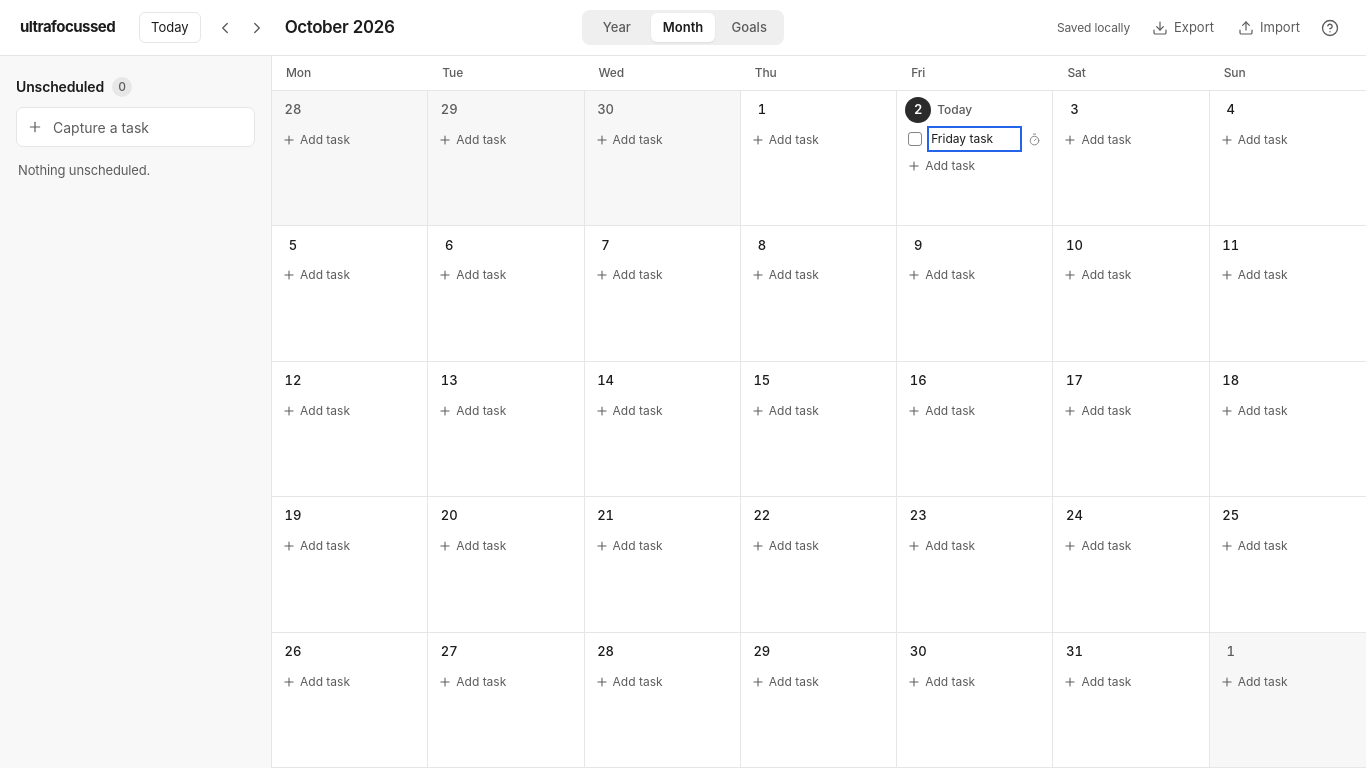
Test: closing task details after a date change › follows a task saved into another month and focuses it there
Click the button "Friday task": (975, 139) left=931, top=130, right=1018, bottom=148
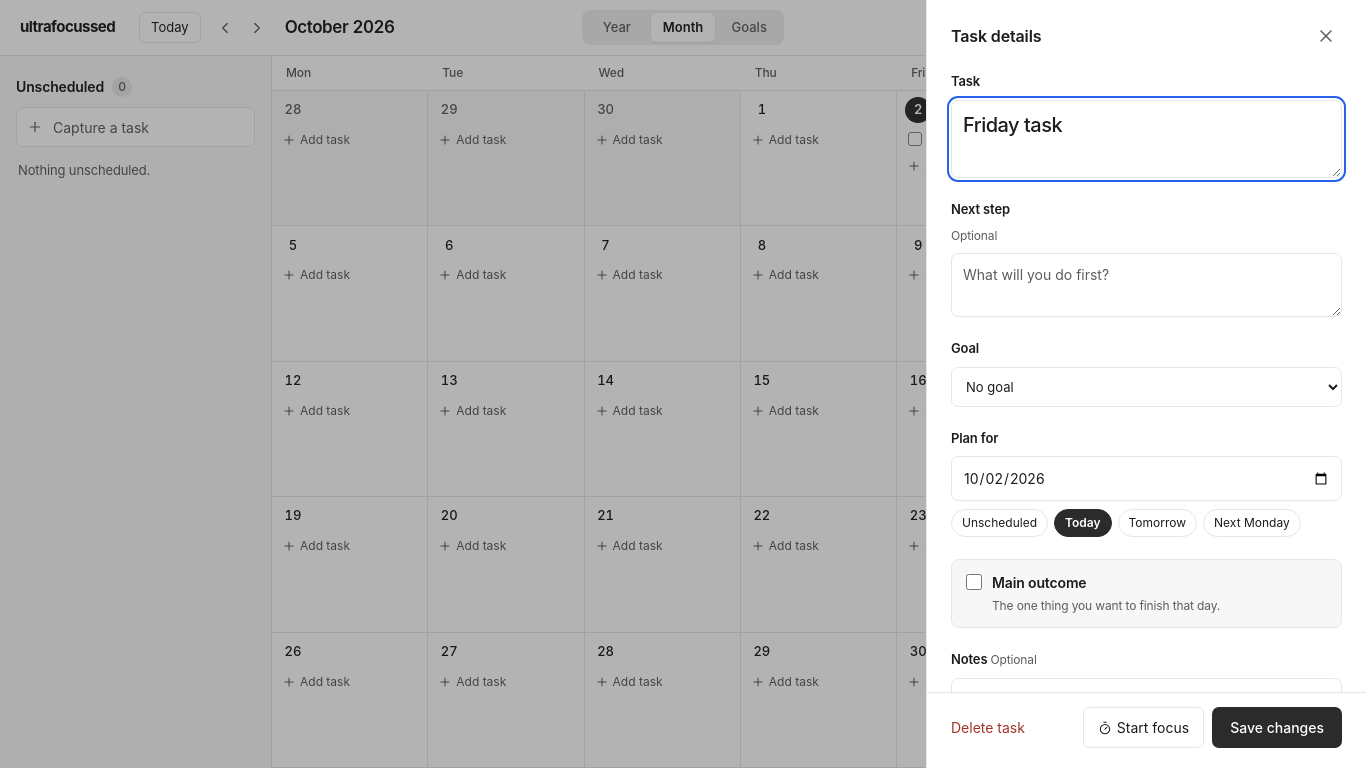
In the date field labelled "Plan for": (1146, 478) left=951, top=456, right=1342, bottom=501, type "2026-11-02"
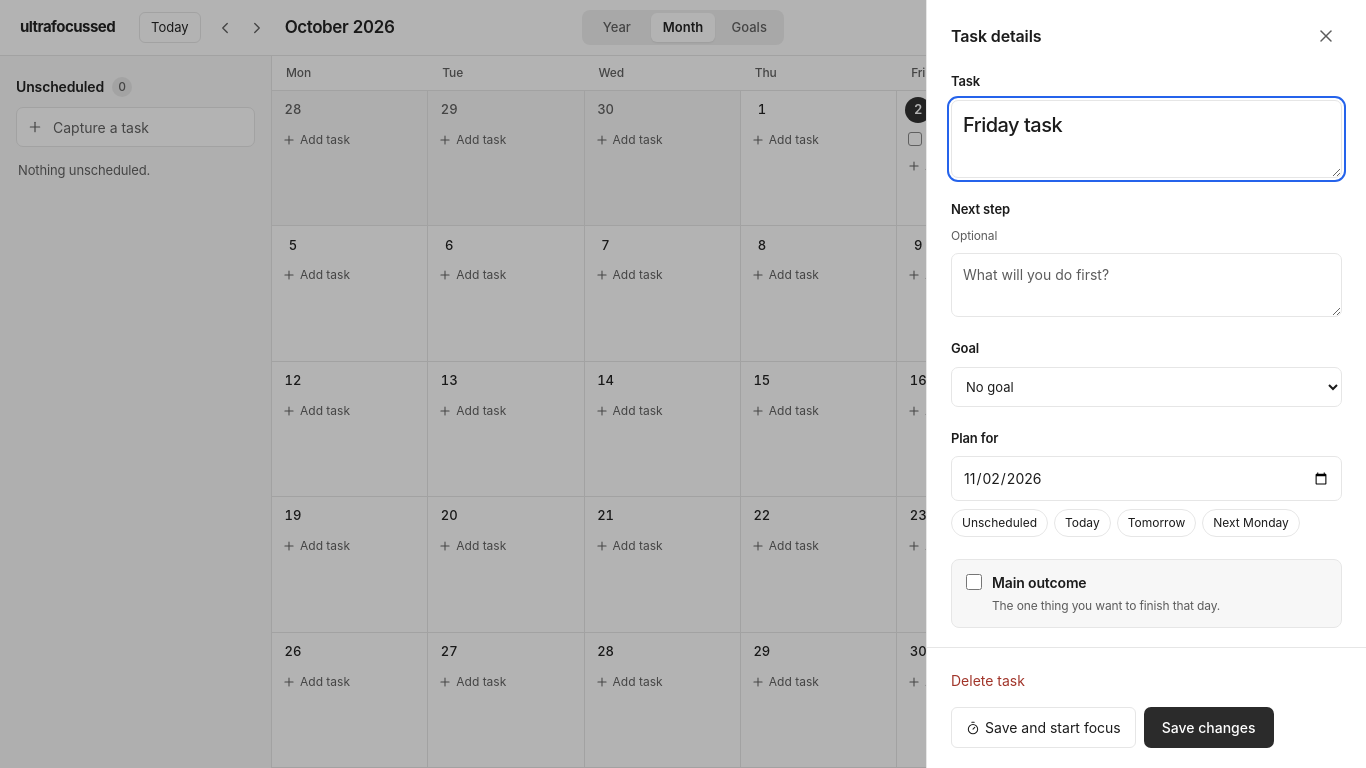
Click the button "Save changes": (1209, 728) left=1144, top=707, right=1274, bottom=748
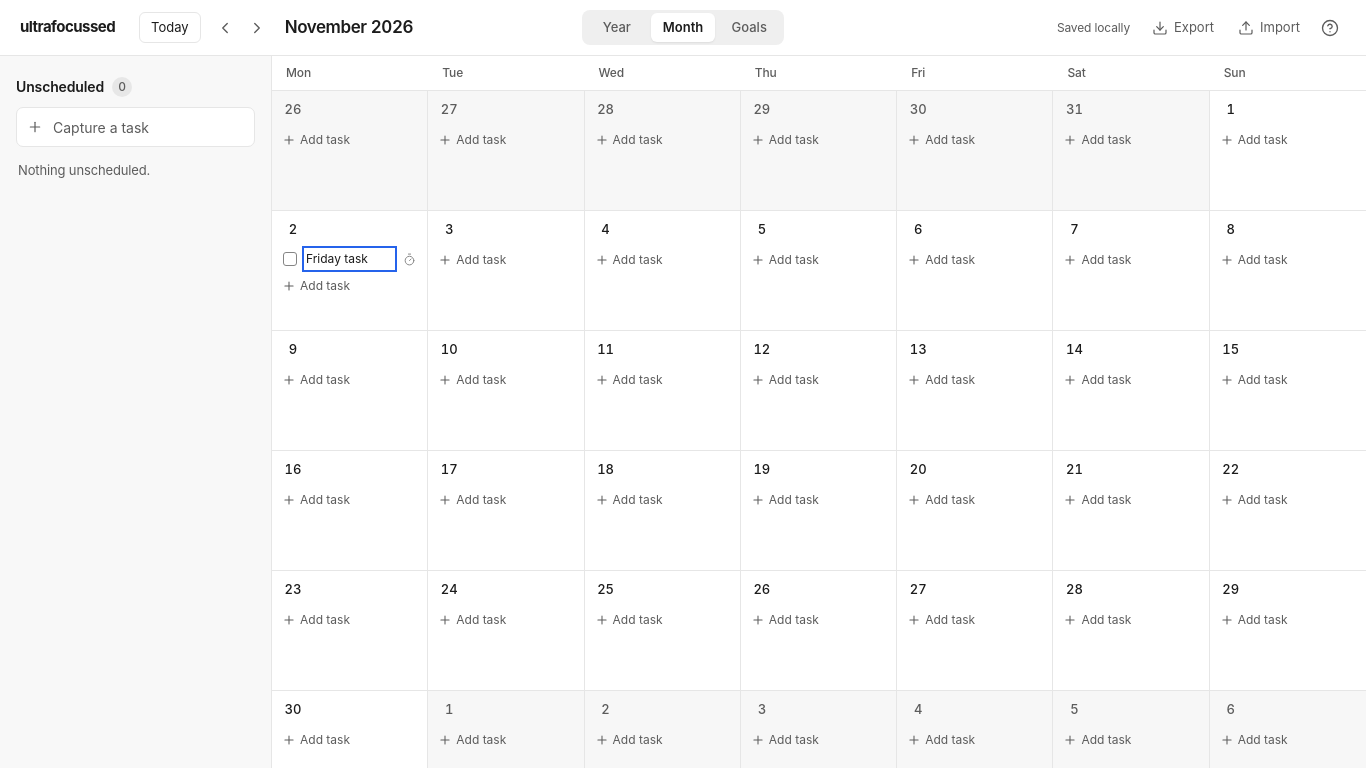
expect the button "Friday task" is shown: met, box left=306, top=250, right=393, bottom=268
expect the heading "November 2026" is shown: met, box left=285, top=15, right=413, bottom=40
